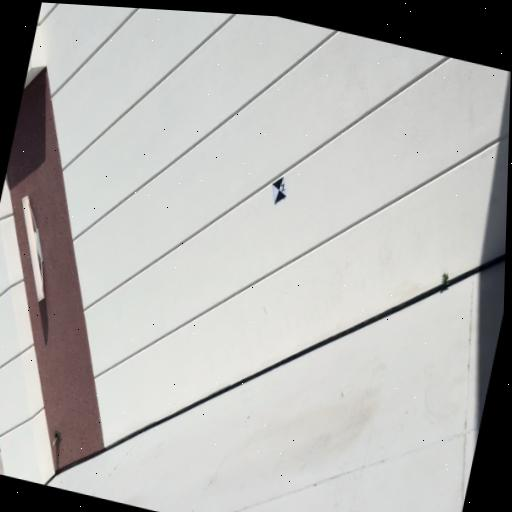target7: (271, 175, 287, 203)
